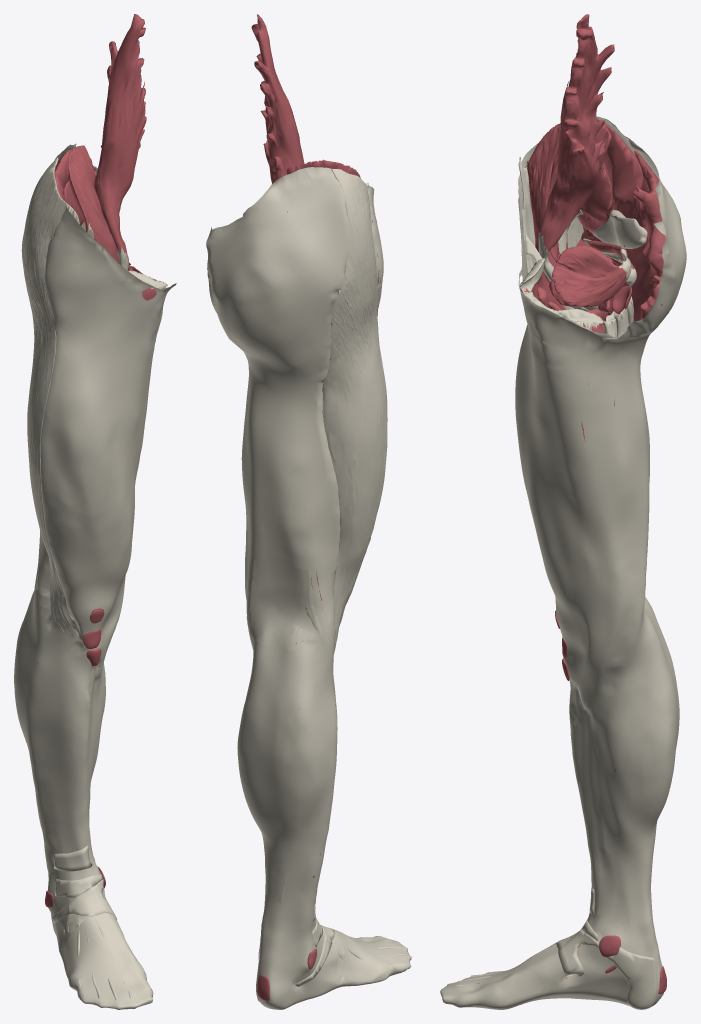
Rendered from detail-muscular-right-lower-limb.glb.
3 views of the same model, side by side, from view 1: azimuth 30°, elevation 25°; view 2: azimuth 150°, elevation 25°; view 3: azimuth 270°, elevation 25° (orthographic). The views are drawn at different scales.
Visible parts, largest first — view 1: za-2f35cff7dd3c09dc, za-c35104b56b74e812, za-c50e8a3180cf5fbe, za-c4d8dae87a854730, za-8ddf23fc92a15481, za-9b541b82627c976e, za-007976f72a5c4d1f, za-784ea5bbf056704b, za-cc11824f98a0b004, za-4406bd006fd22b59, za-67587a3f80f0a97a; view 2: za-2f35cff7dd3c09dc, za-c35104b56b74e812, za-c50e8a3180cf5fbe, za-d0449cae16906b06, za-c4d8dae87a854730, za-9b541b82627c976e, za-8ddf23fc92a15481; view 3: za-2f35cff7dd3c09dc, za-c35104b56b74e812, za-c4d8dae87a854730, za-b324cf5a401ccb98, za-98e8733790d12de7, za-8ddf23fc92a15481, za-cc11824f98a0b004, za-34aa2f8dc60b6413, za-5b406d40c187e82d, za-82f46ad8e17e69bb, za-9b541b82627c976e, za-67587a3f80f0a97a (+2 smaller).
Boxes of the visible parts, <box> form: za-2f35cff7dd3c09dc: <box>21,143,176,625</box>; za-c35104b56b74e812: <box>14,591,153,1009</box>; za-c50e8a3180cf5fbe: <box>22,158,78,641</box>; za-c4d8dae87a854730: <box>94,14,146,270</box>; za-8ddf23fc92a15481: <box>68,145,118,263</box>; za-9b541b82627c976e: <box>52,879,116,923</box>; za-007976f72a5c4d1f: <box>53,845,92,871</box>; za-784ea5bbf056704b: <box>54,874,103,897</box>; za-cc11824f98a0b004: <box>54,149,72,202</box>; za-4406bd006fd22b59: <box>77,915,132,999</box>; za-67587a3f80f0a97a: <box>128,270,167,300</box>; za-2f35cff7dd3c09dc: <box>206,167,387,652</box>; za-c35104b56b74e812: <box>237,632,411,1009</box>; za-c50e8a3180cf5fbe: <box>322,169,386,653</box>; za-d0449cae16906b06: <box>249,560,310,651</box>; za-c4d8dae87a854730: <box>251,14,304,183</box>; za-9b541b82627c976e: <box>295,924,334,987</box>; za-8ddf23fc92a15481: <box>287,159,361,179</box>; za-2f35cff7dd3c09dc: <box>515,116,686,641</box>; za-c35104b56b74e812: <box>440,609,679,1009</box>; za-c4d8dae87a854730: <box>538,14,614,310</box>; za-b324cf5a401ccb98: <box>551,245,631,307</box>; za-98e8733790d12de7: <box>605,150,665,321</box>; za-8ddf23fc92a15481: <box>527,119,611,311</box>; za-cc11824f98a0b004: <box>604,122,642,219</box>; za-34aa2f8dc60b6413: <box>607,947,657,1009</box>; za-5b406d40c187e82d: <box>577,162,612,240</box>; za-82f46ad8e17e69bb: <box>589,209,647,248</box>; za-9b541b82627c976e: <box>556,929,599,975</box>; za-67587a3f80f0a97a: <box>520,258,565,310</box>.
Bounding box in the file's own units: 0.1612 × 1.15 × 0.2518.
